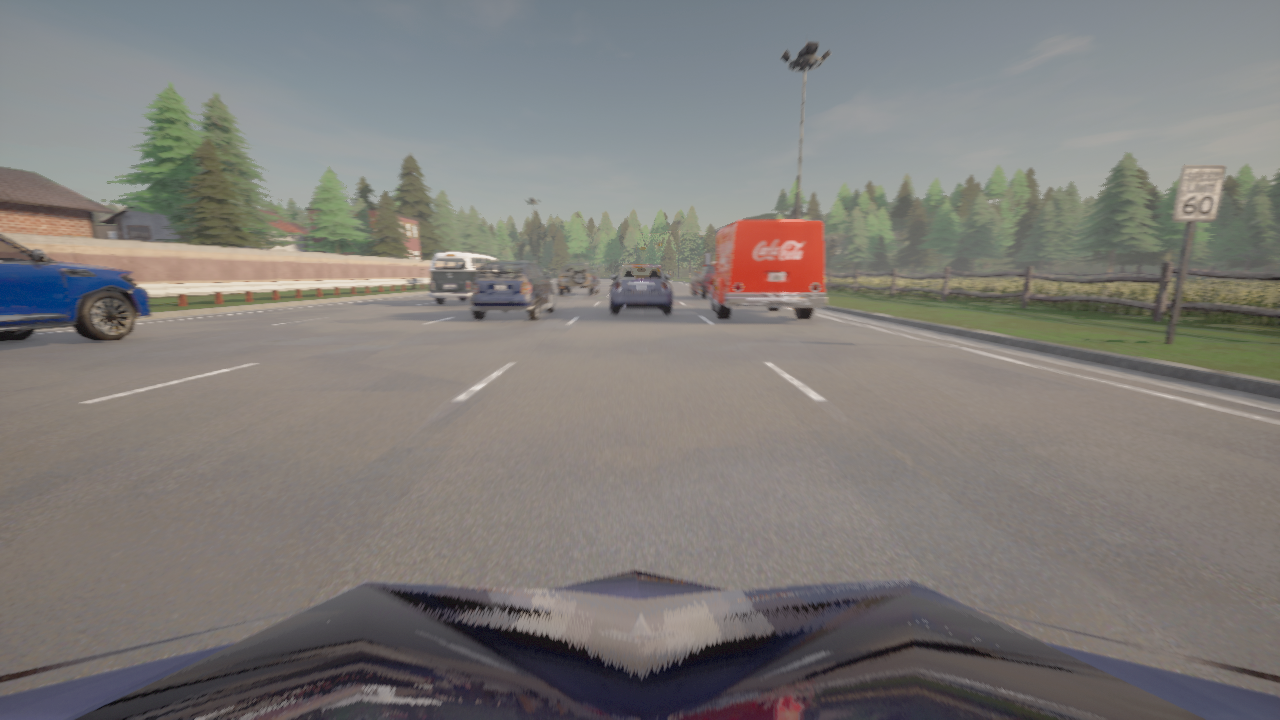cyclist: (0, 569, 1279, 719), (705, 220, 827, 319), (470, 261, 555, 319), (429, 252, 498, 304), (610, 265, 672, 314), (557, 262, 598, 295), (691, 264, 715, 299)
